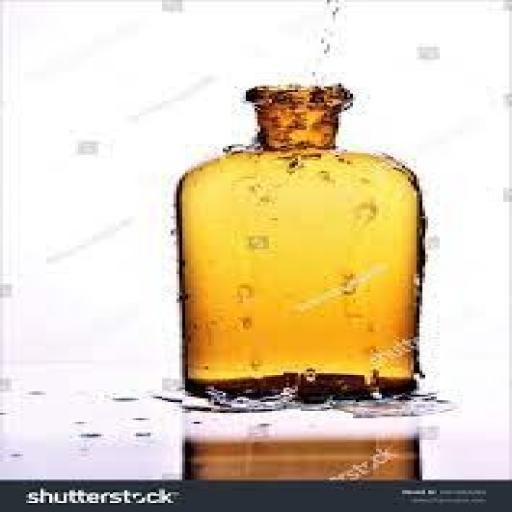bottle: (150, 74, 454, 396)
